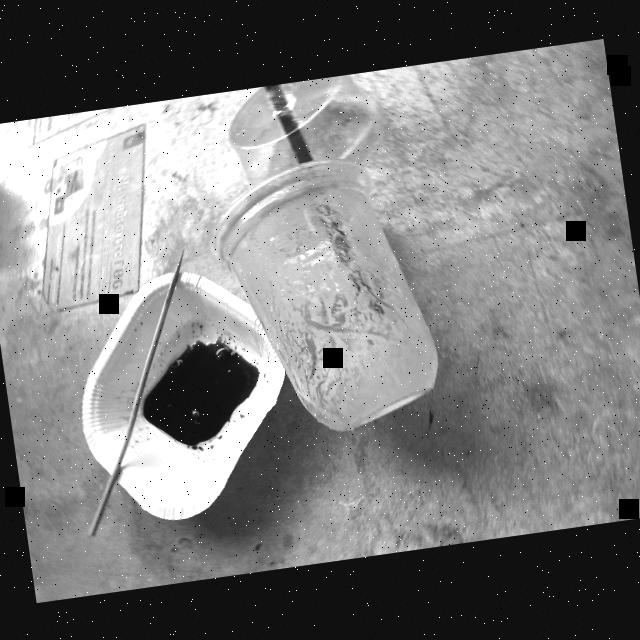cardboard_bowl: (56, 260, 310, 530)
plastic_cup: (201, 142, 460, 476)
plastic_cup_lid: (215, 69, 402, 201)
stick: (74, 231, 200, 553)
